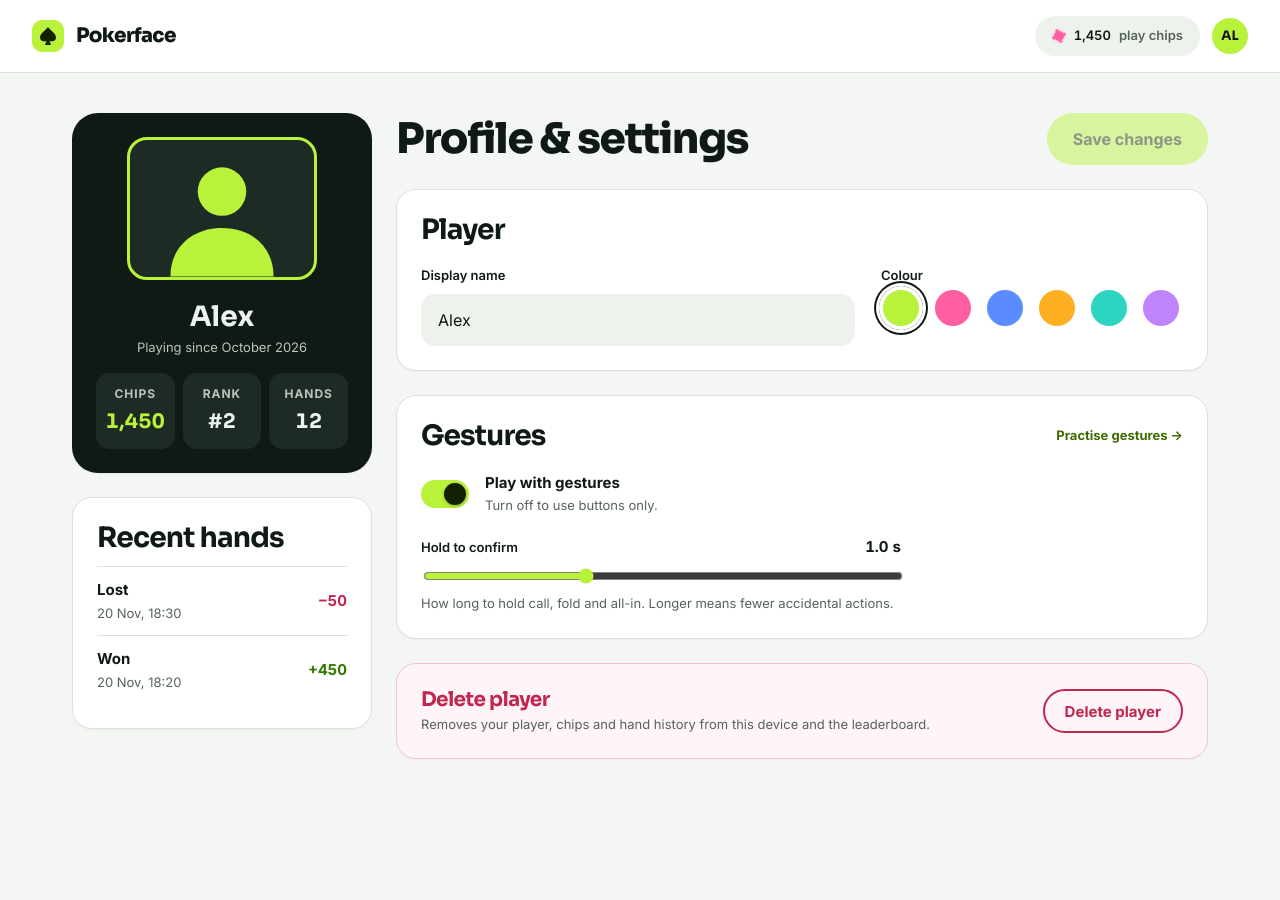
Test: ProfilePage › saves a new name, colour and gesture settings, keeping other settings
This screenshot has width=1280, height=900.
Expected: the button "Save changes" is disabled, [1047,113,1208,165]
Replace the text in the field labelled "Display name" with "  Alexa " at (638, 320), box [421,294,855,346]
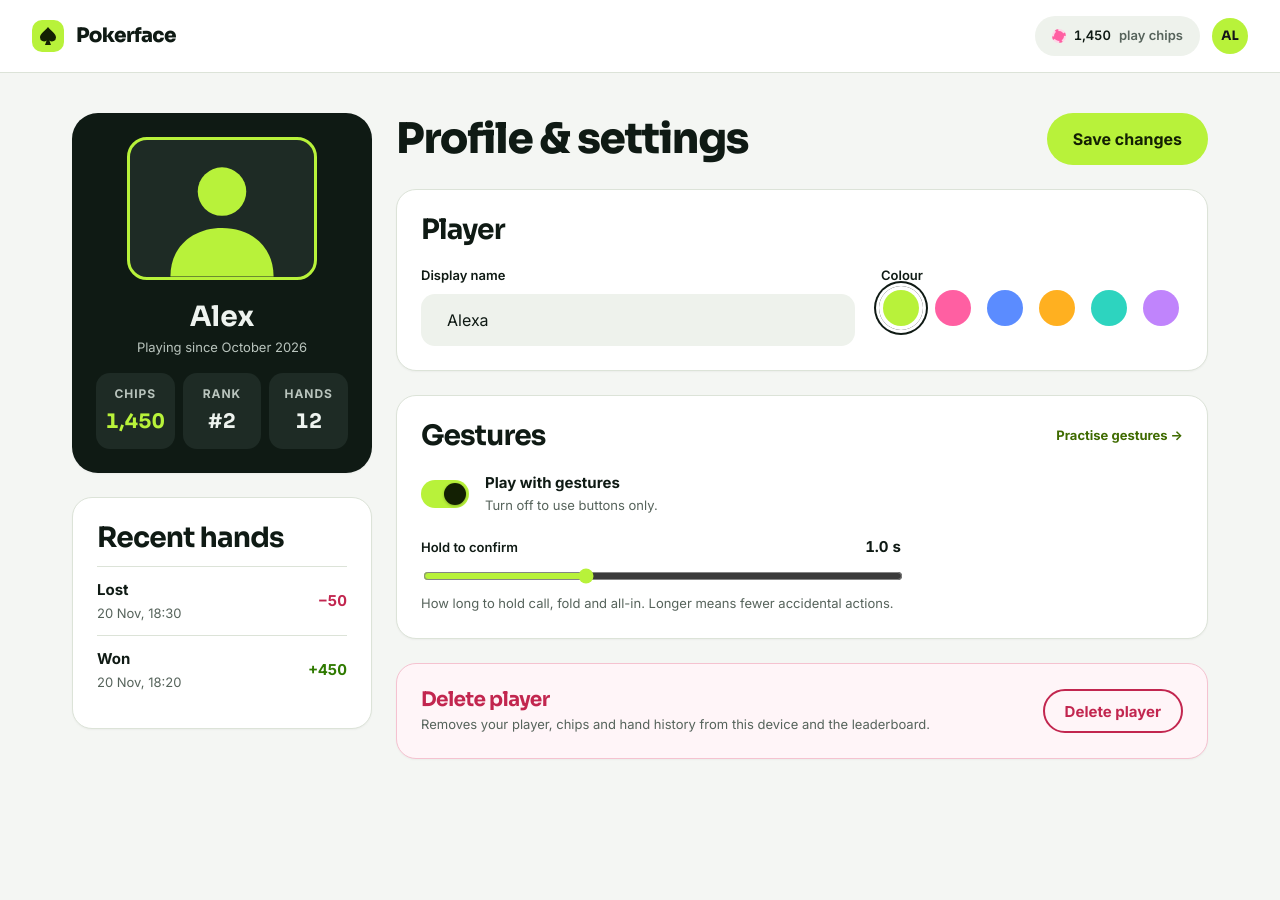
Click the radio button named "Pink".
click(953, 308)  # box [931,286,975,330]
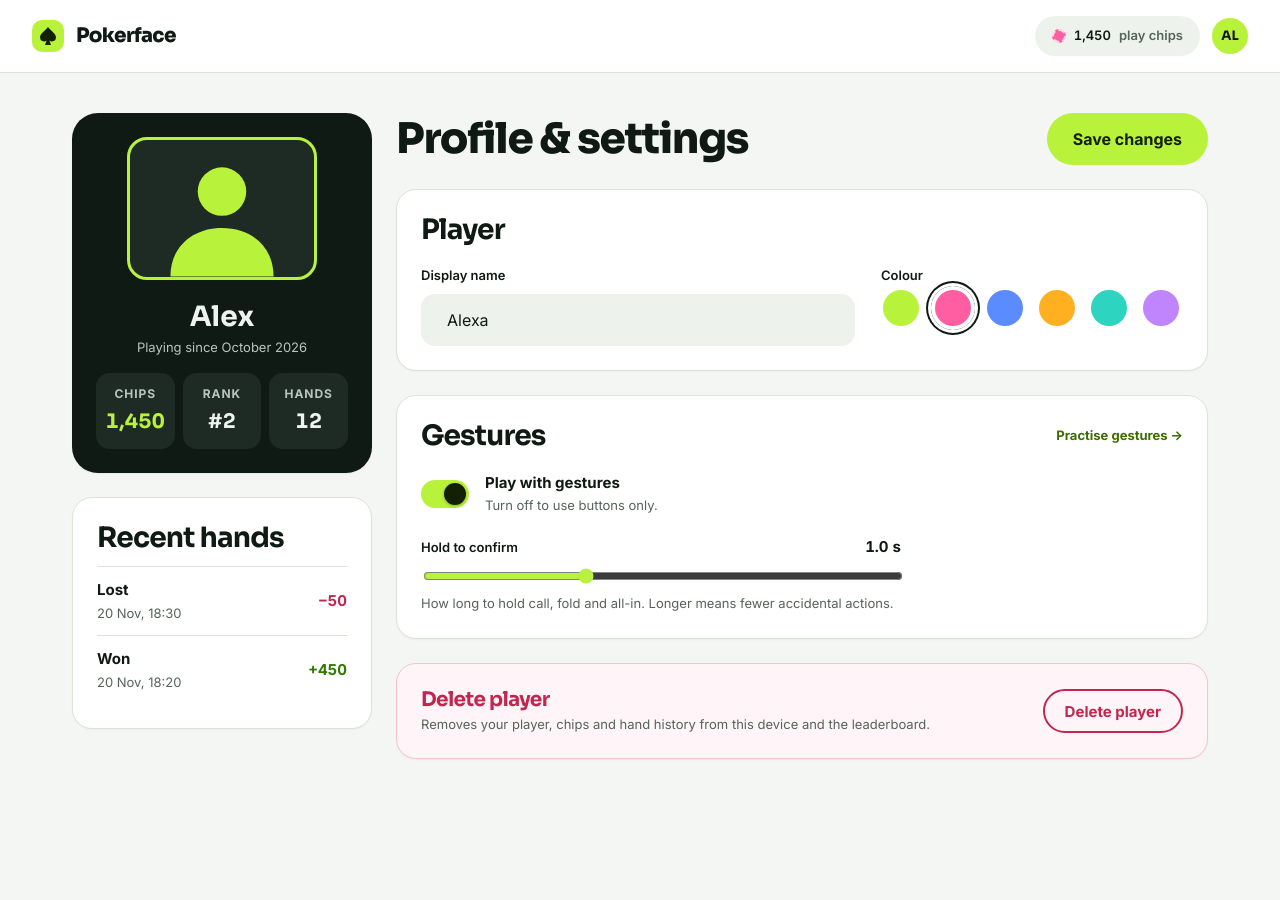
Set the slider labelled "Hold to confirm" to "1500" at (740, 576), box [423,568,903,584]
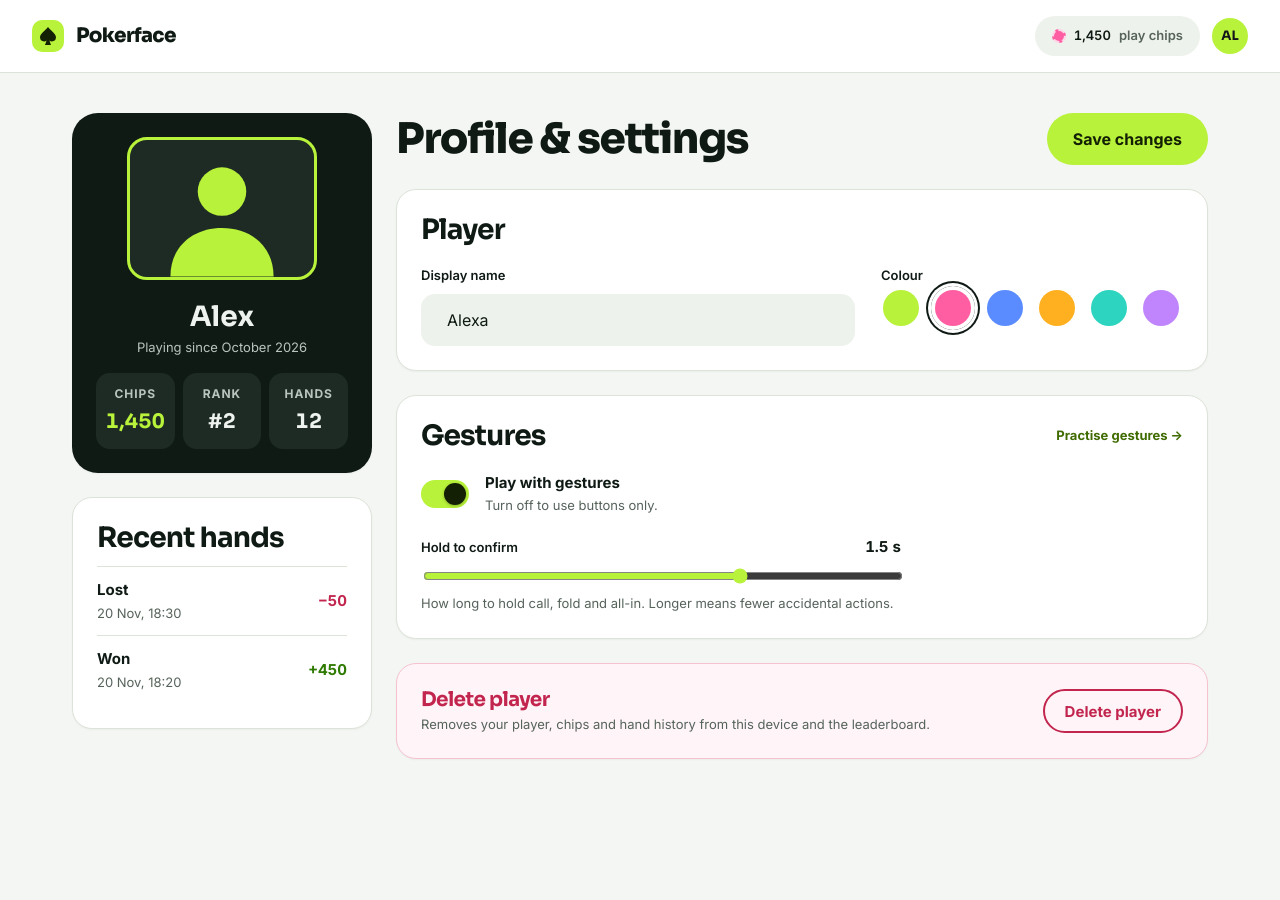
Now the button "Save changes" is enabled
Now the text "1.5 s" is shown, box [865,536,901,558]
Click the button "Save changes".
click(1127, 139)  # box [1047,113,1208,165]
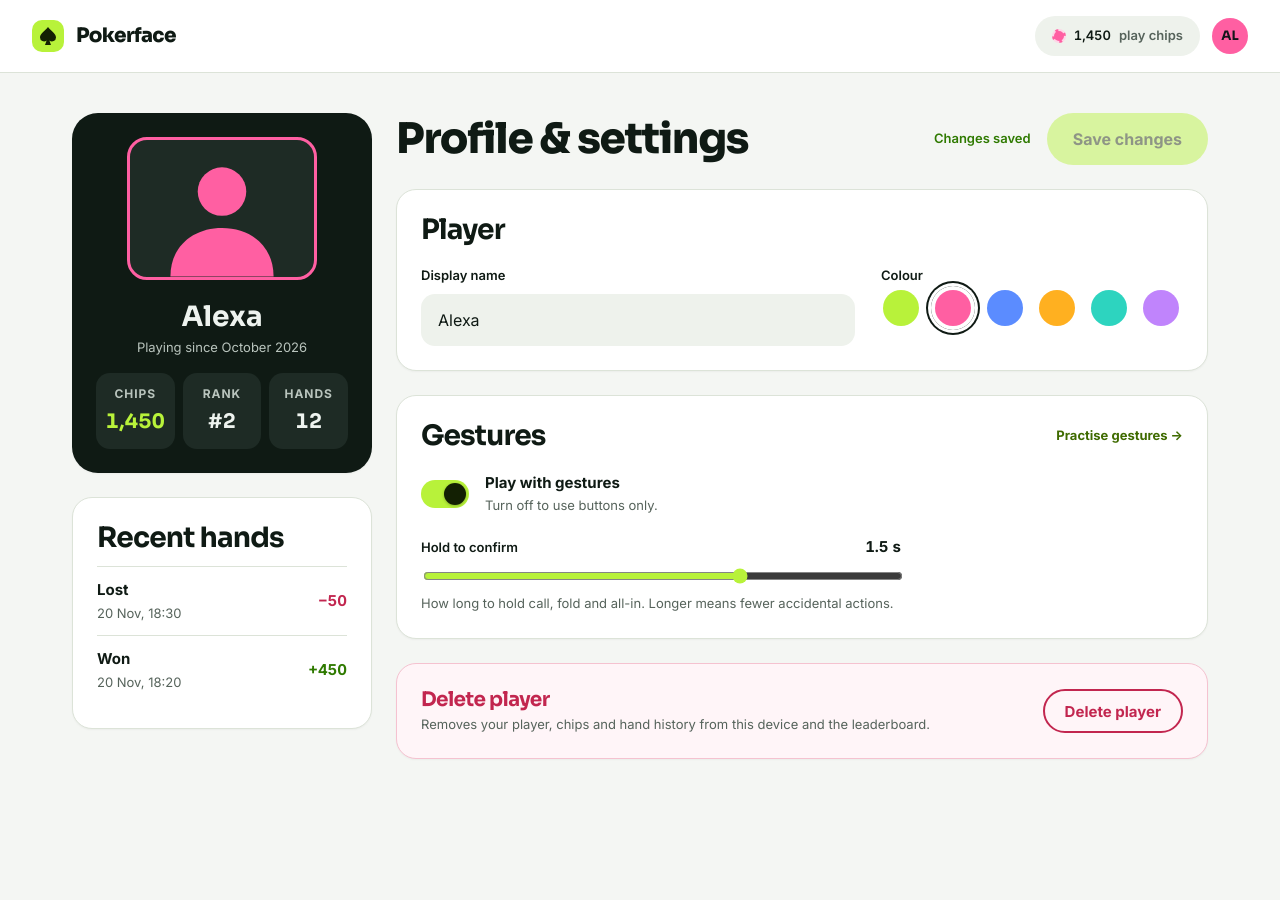
Now the message reads "Changes saved", box [934,130,1031,146]
Now the button "Save changes" is disabled, box [1047,113,1208,165]
Now the button with aria-label "Alexa: open menu" is shown, box [1212,18,1248,54]
